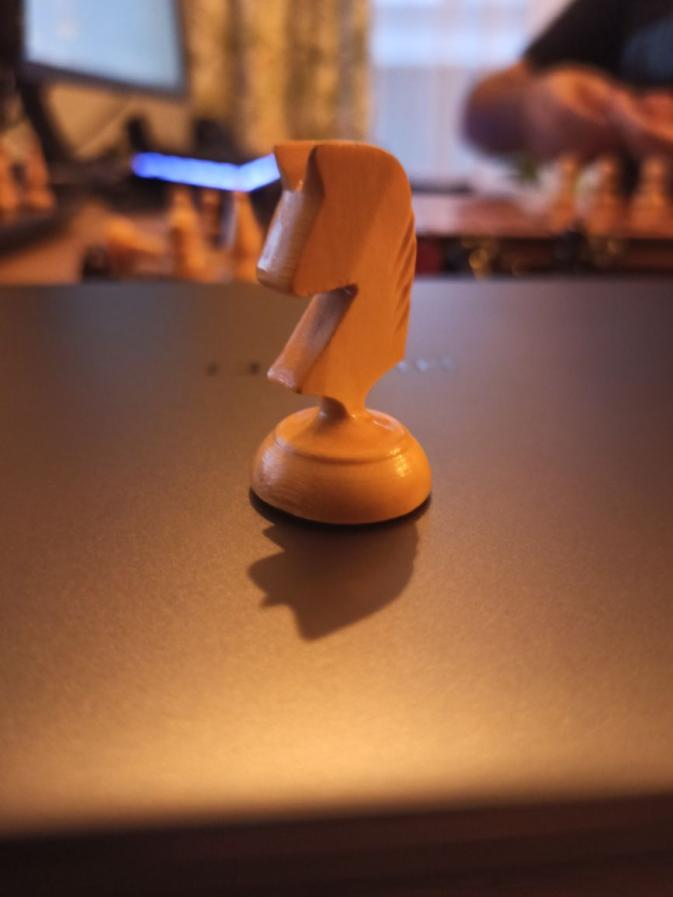wknight: (247, 139, 433, 523)
